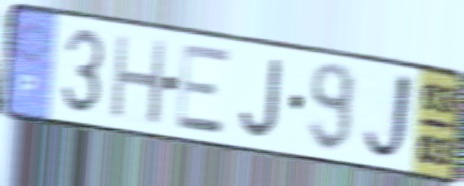3: (59, 26, 107, 117)
9: (308, 59, 360, 158)
E: (174, 42, 232, 137)
H: (107, 30, 170, 128)
J: (359, 68, 417, 166), (237, 56, 284, 141)
